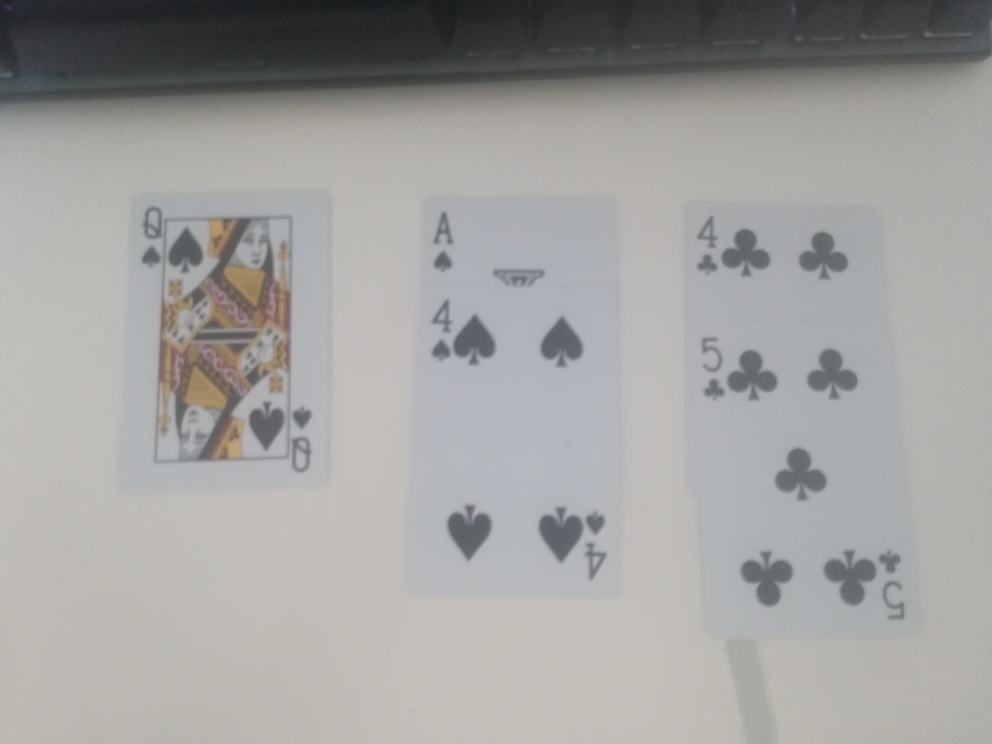4C: (690, 211, 729, 282)
4S: (424, 292, 460, 371)
5C: (691, 331, 733, 408)
AS: (429, 207, 460, 278)
QS: (136, 204, 166, 274)
